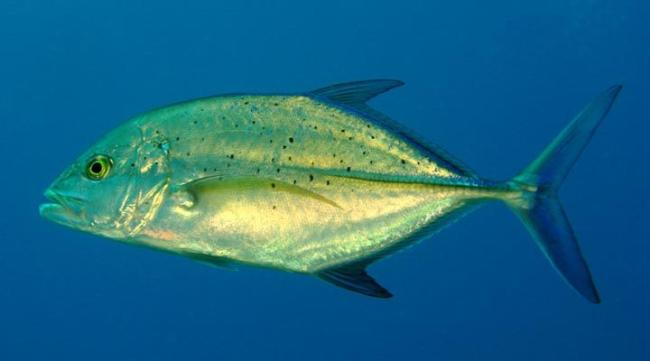fish: (36, 79, 622, 305)
